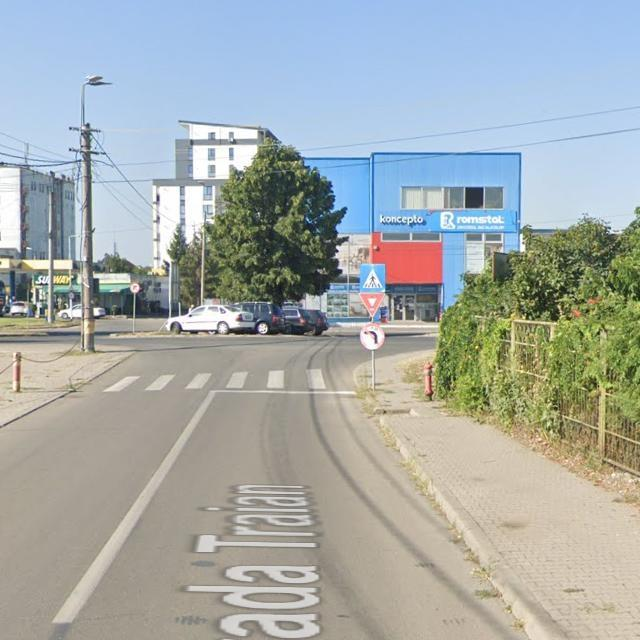info_crosswalk: (360, 264, 386, 292)
prio_give_way: (360, 293, 385, 319)
